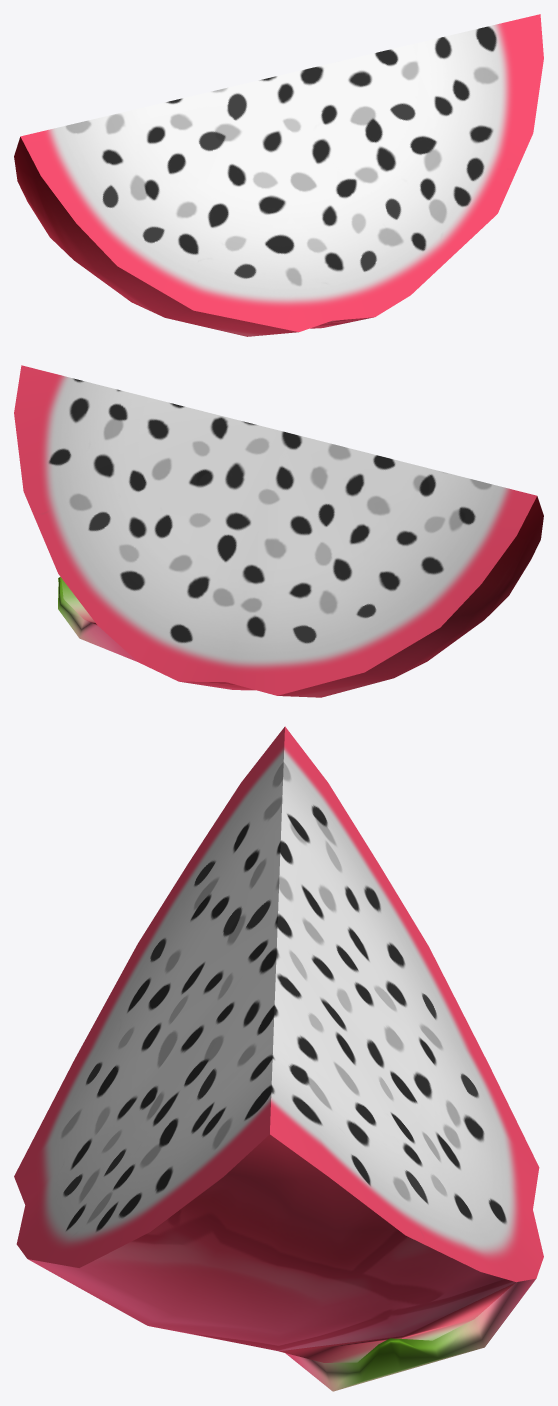
The model's file is Dragonfruit_Quarter.fbx.
The picture shows the model from 3 angles, top to bottom: view 1: azimuth 30°, elevation 25°; view 2: azimuth 150°, elevation 25°; view 3: azimuth 270°, elevation 25°; orthographic projection. The views are drawn at different scales.
Visible parts, largest first — view 1: Dragonfruit_Quarter; view 2: Dragonfruit_Quarter; view 3: Dragonfruit_Quarter.
Part boxes in pixels (<box>): Dragonfruit_Quarter: <box>14,14,543,336</box>; Dragonfruit_Quarter: <box>14,365,543,697</box>; Dragonfruit_Quarter: <box>14,726,543,1391</box>.
Bounding box in the file's own units: 40.96 × 17.66 × 22.48.
